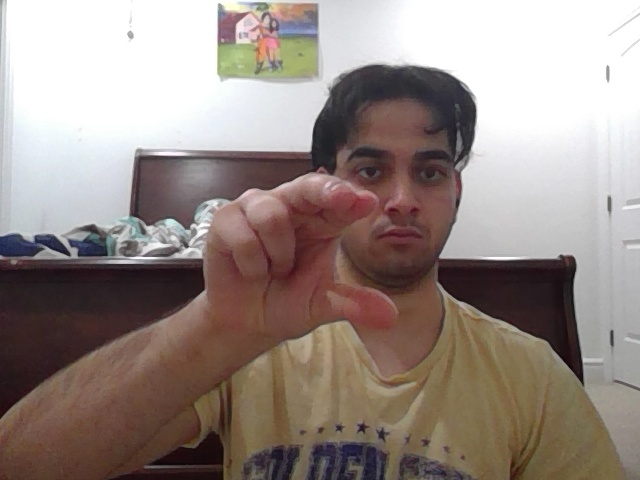No: (197, 172, 397, 383)
